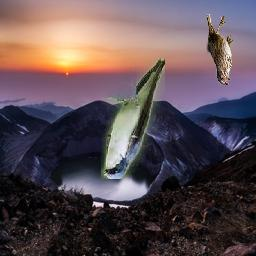Sparrow: (207, 15, 234, 86)
Swallow: (101, 59, 165, 180)
